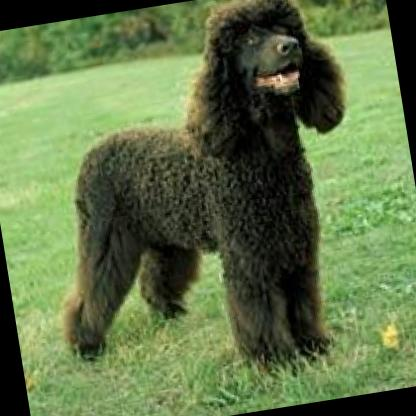Irish_water_spaniel: (9, 0, 392, 398)
